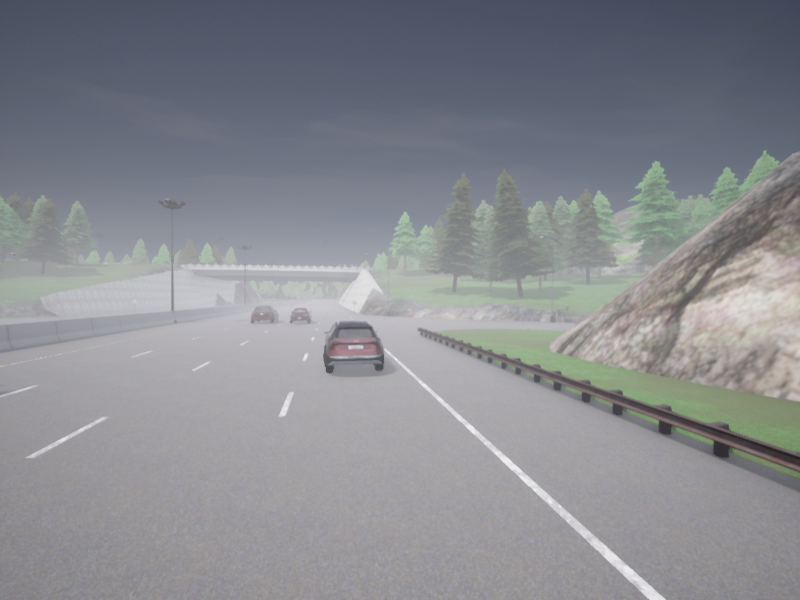vehicle: (323, 320, 383, 371), (251, 306, 278, 323), (289, 308, 312, 323)
